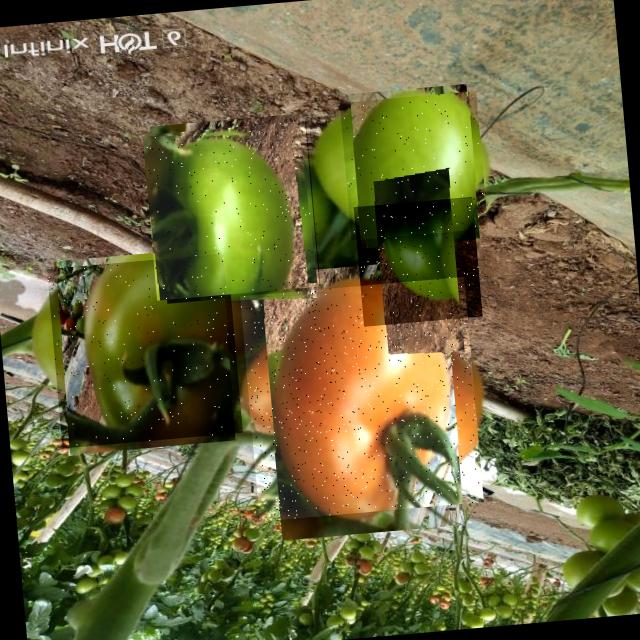Ripe Tomato: (240, 276, 483, 521)
Unripe Tomato: (46, 253, 242, 448), (142, 120, 322, 300), (339, 91, 488, 240), (353, 196, 482, 326)
